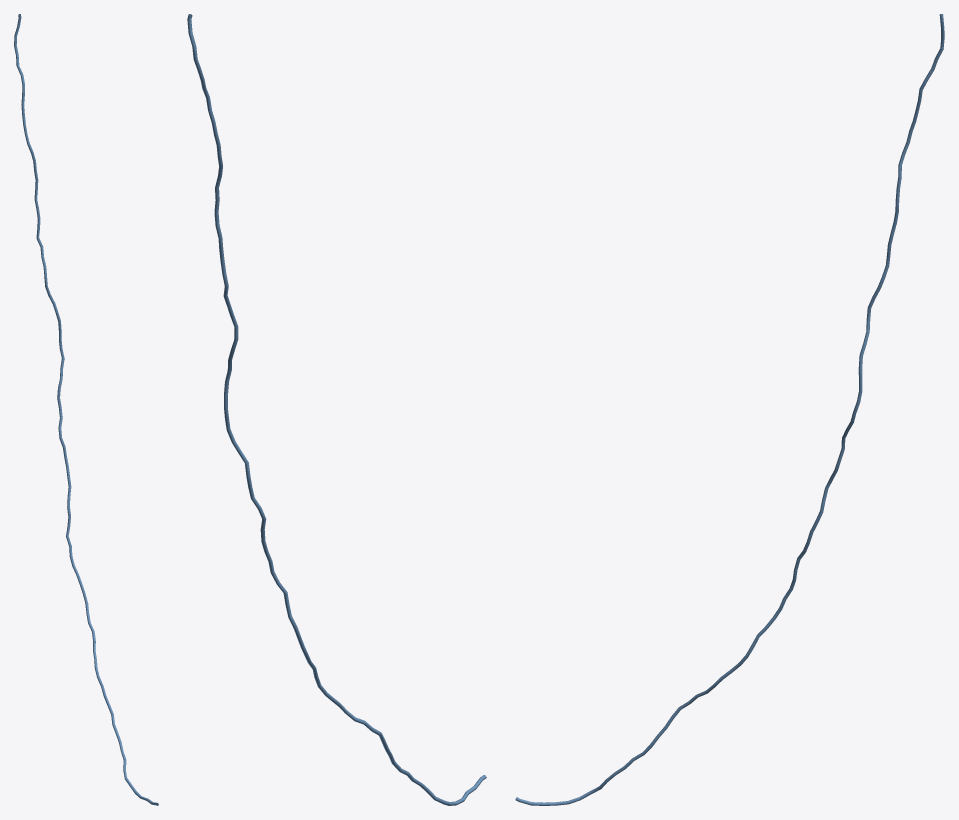
File: sweep337.fbx
The picture shows the model from 3 angles, left to right: view 1: azimuth 30°, elevation 25°; view 2: azimuth 150°, elevation 25°; view 3: azimuth 270°, elevation 25°; orthographic projection. The views are drawn at different scales.
Visible parts, largest first — view 1: sweep337; view 2: sweep337; view 3: sweep337.
Part boxes in pixels (<box>): sweep337: <box>14,14,158,805</box>; sweep337: <box>187,14,486,805</box>; sweep337: <box>515,14,944,805</box>.
Size of the model in its own units: 0.3726 by 5.01 by 2.4.
